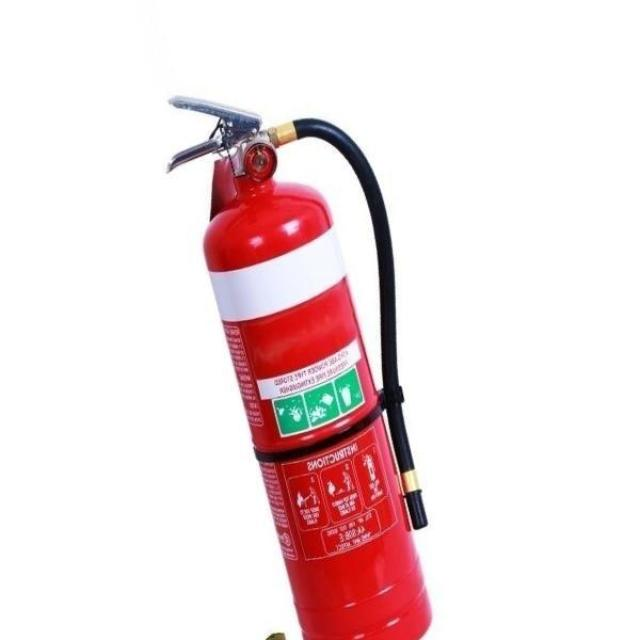fire_extinguisher: (158, 88, 438, 639)
